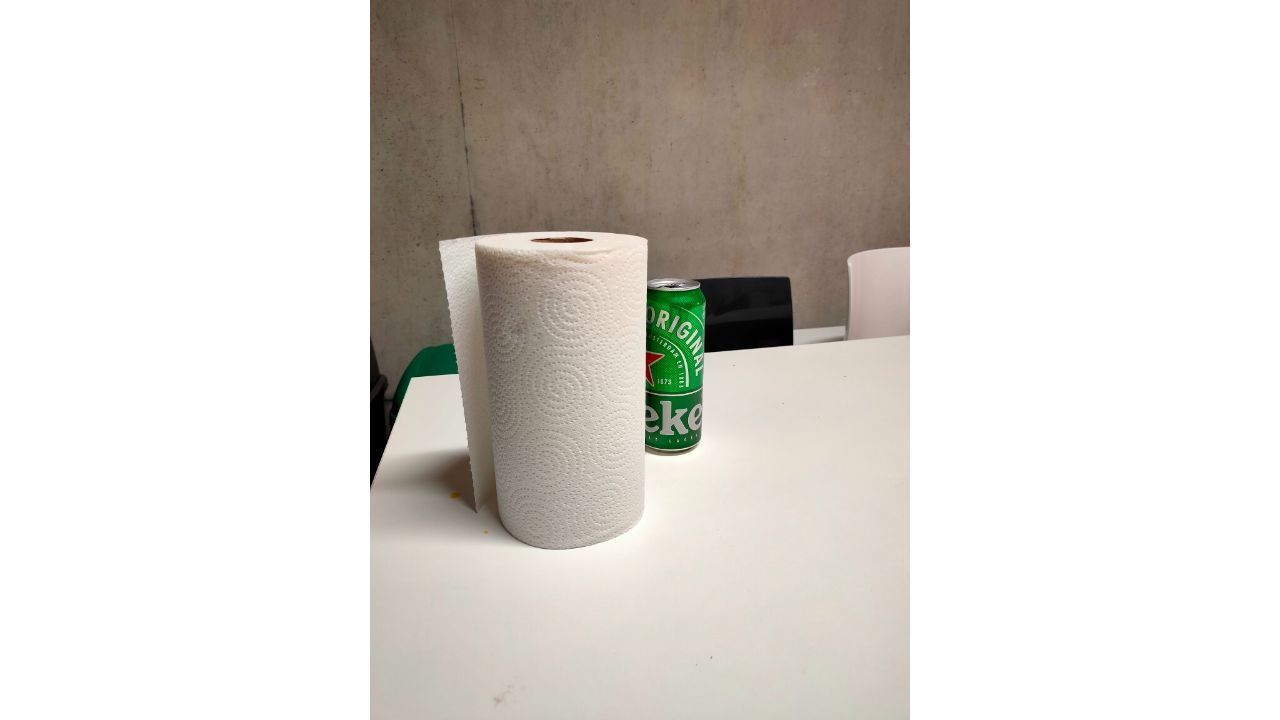Can: (645, 278, 705, 458)
